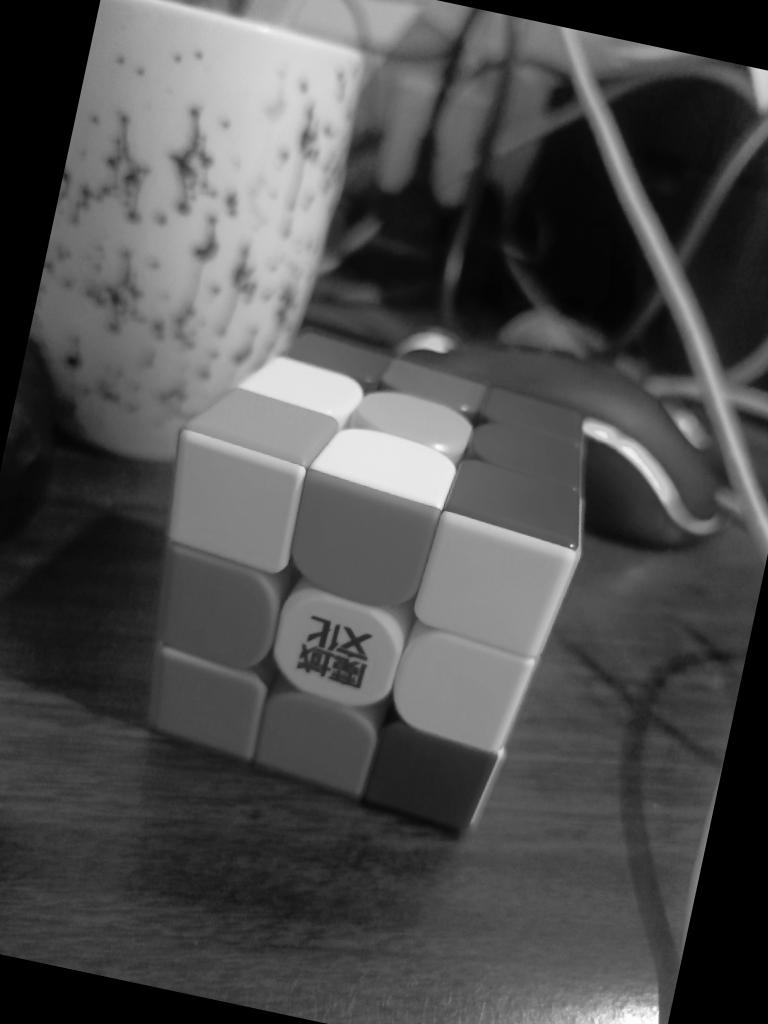rubik: (108, 304, 616, 844)
